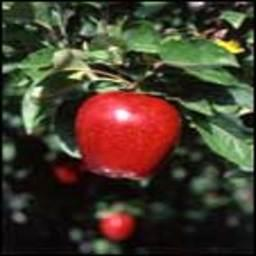apple: (73, 92, 180, 179)
